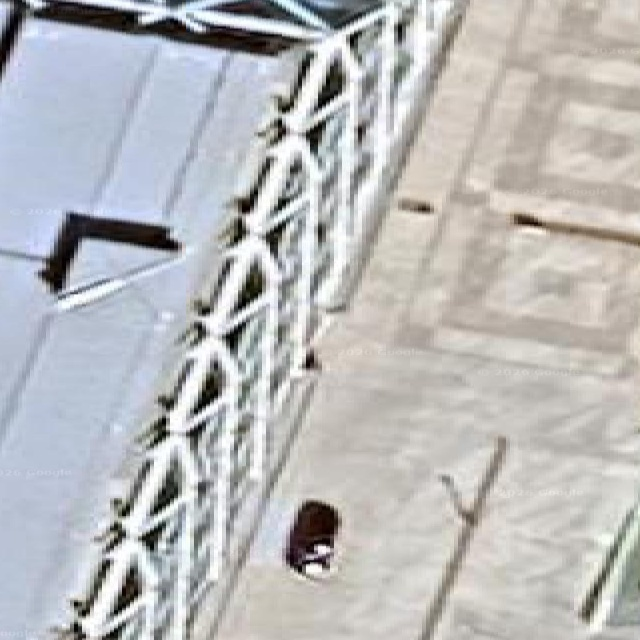car: (285, 501, 340, 577)
